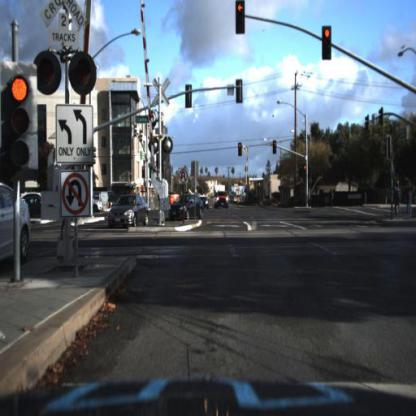car: (2, 183, 33, 273), (101, 191, 150, 233), (165, 193, 203, 224), (91, 195, 108, 216), (214, 191, 229, 211)
pedestrian: (391, 167, 403, 232), (406, 179, 414, 233), (327, 176, 338, 213)
trafficLight-Red: (6, 68, 36, 171), (323, 27, 332, 53), (237, 140, 243, 160), (272, 139, 278, 155), (302, 162, 308, 173)
trafficLight-RedLeft: (235, 2, 244, 32)
